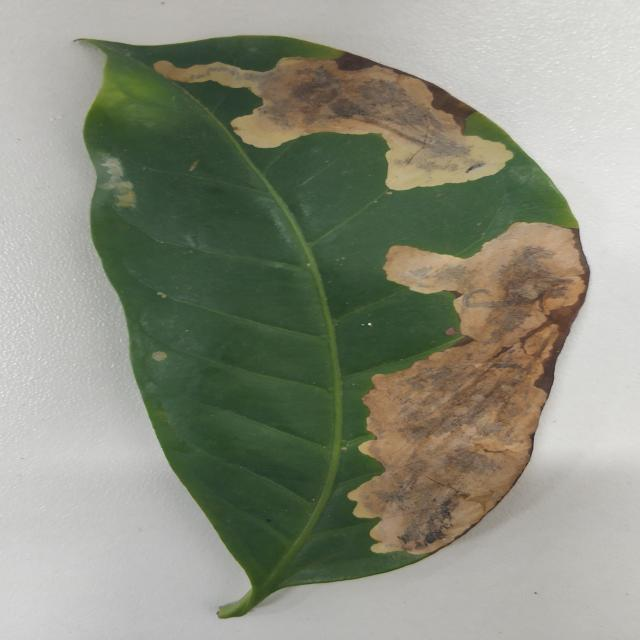Plaga-Minador: (80, 35, 591, 620)
